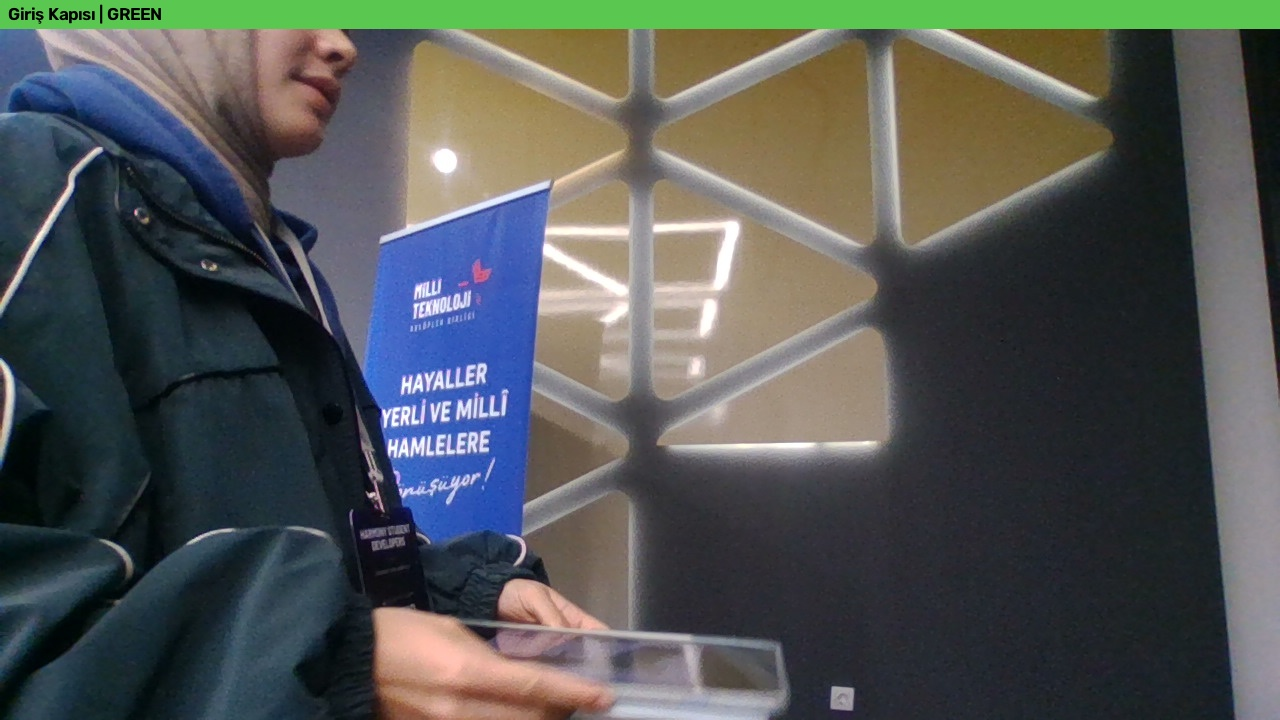weapon: (433, 496, 989, 625)
